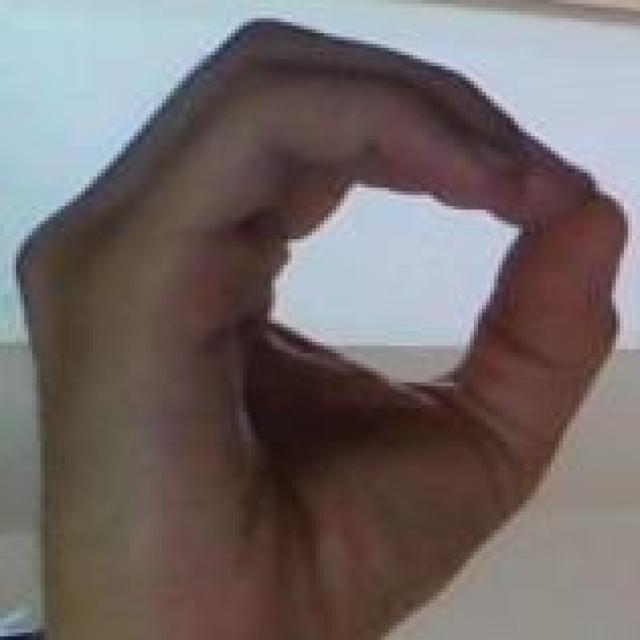O: (12, 3, 640, 640)
